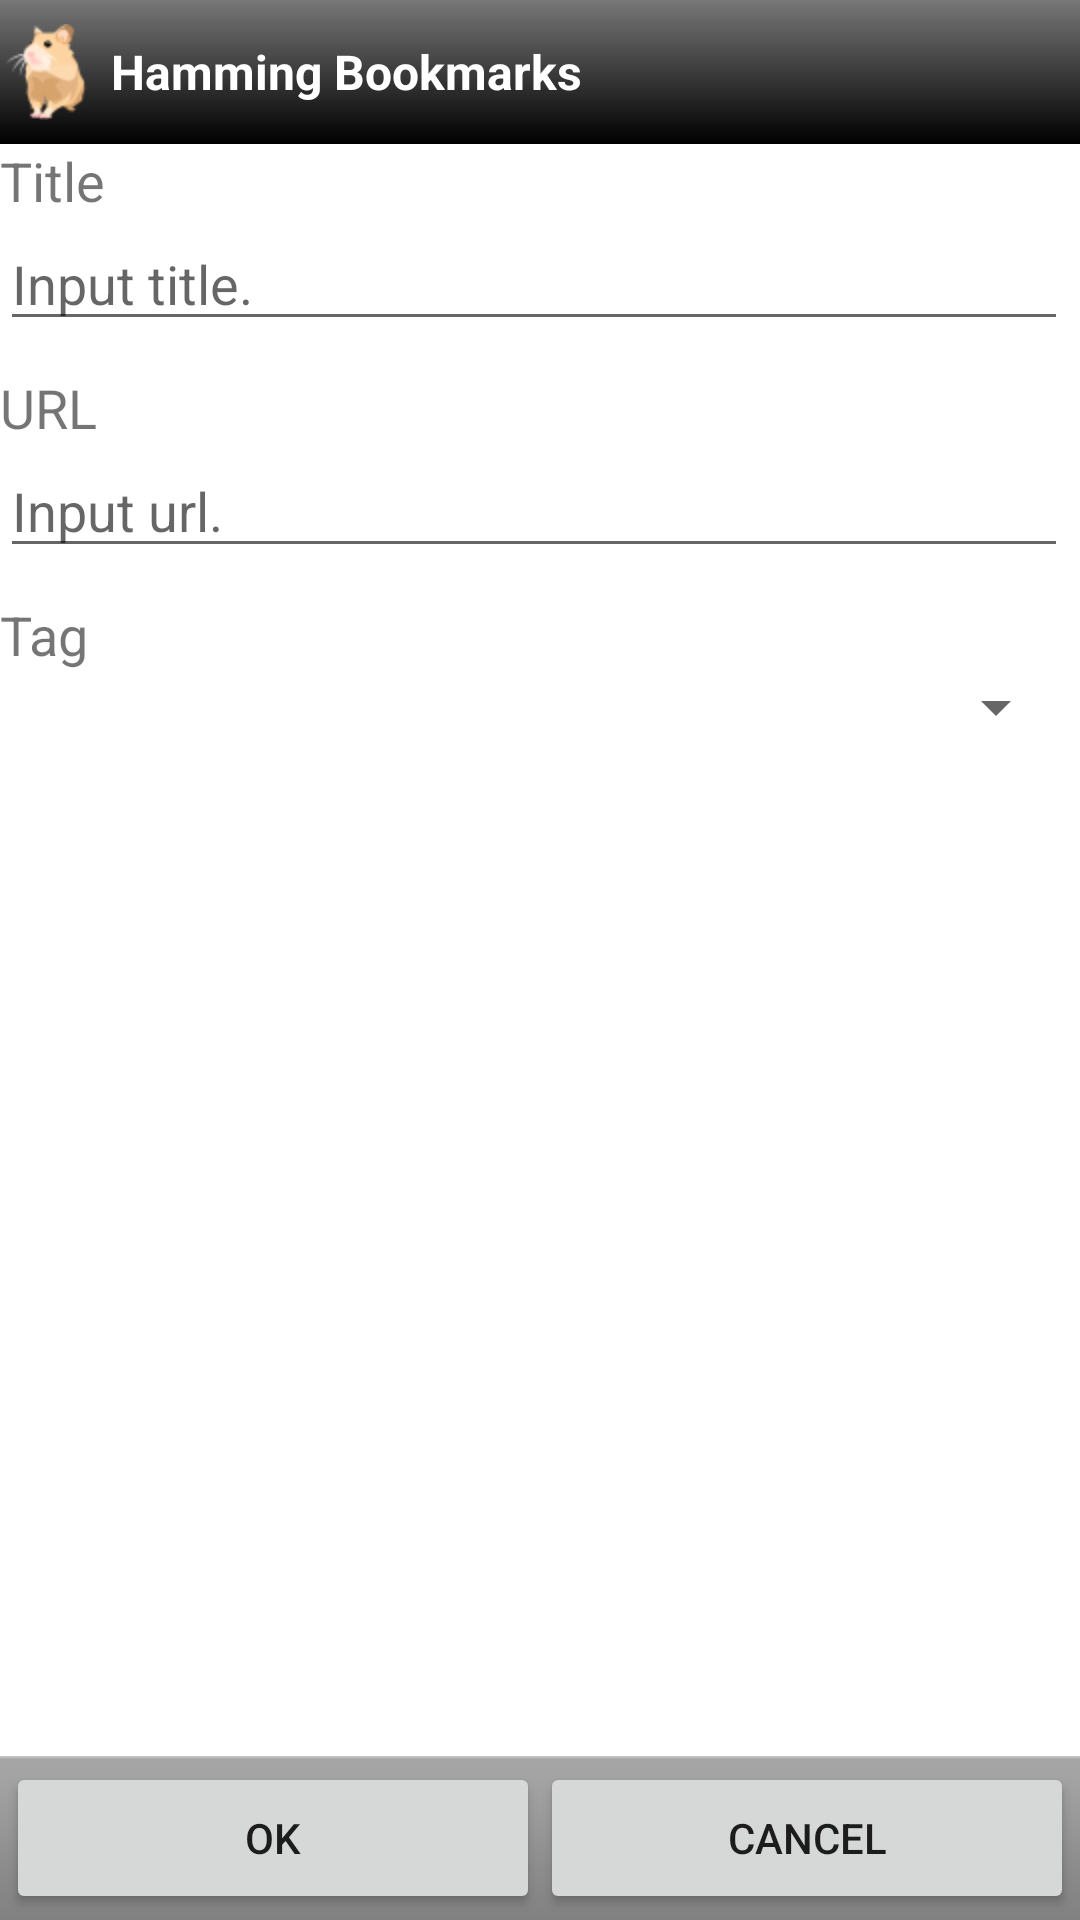

Icon click points for this 1080 x 1920 phone screenshot, format point (x, y):
app: point (48, 72)
